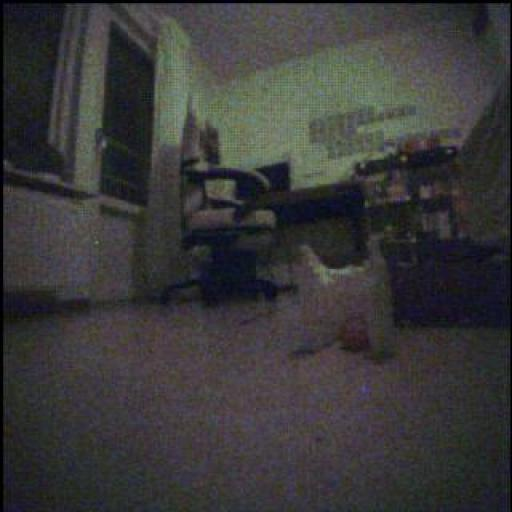basket: (338, 315, 375, 354)
